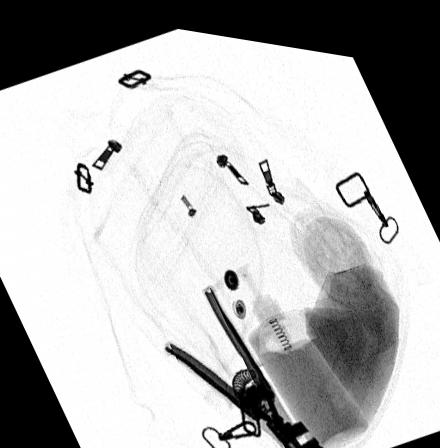Pliers: (164, 276, 326, 448)
